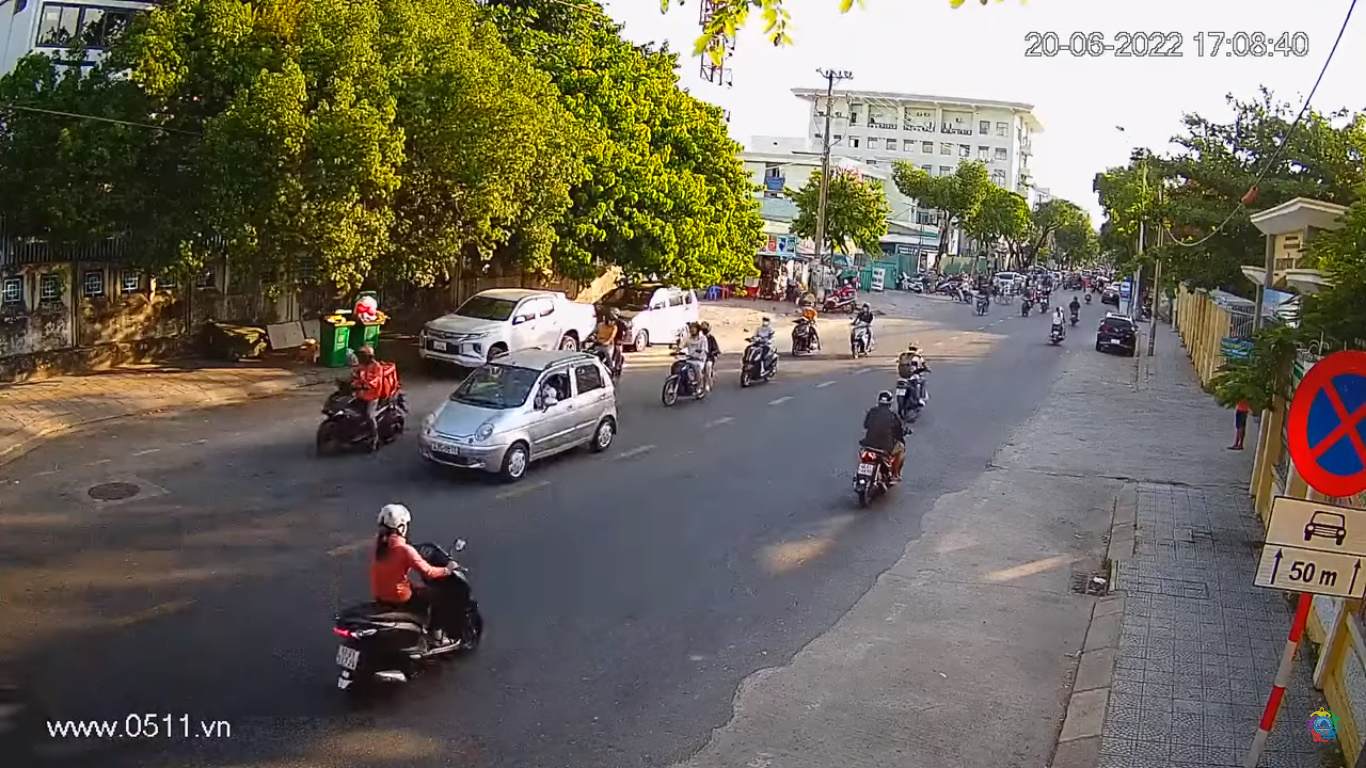car: (414, 352, 630, 479)
